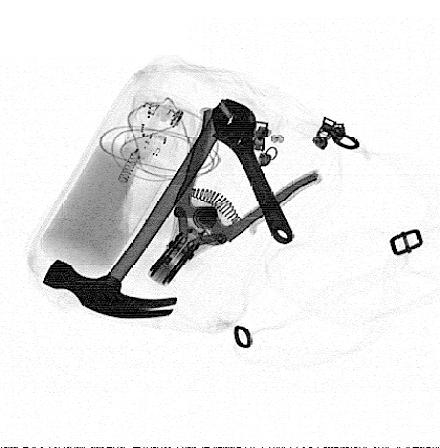Hammer: (40, 94, 241, 319)
Pliers: (145, 106, 324, 289)
Wrench: (211, 97, 297, 245)
